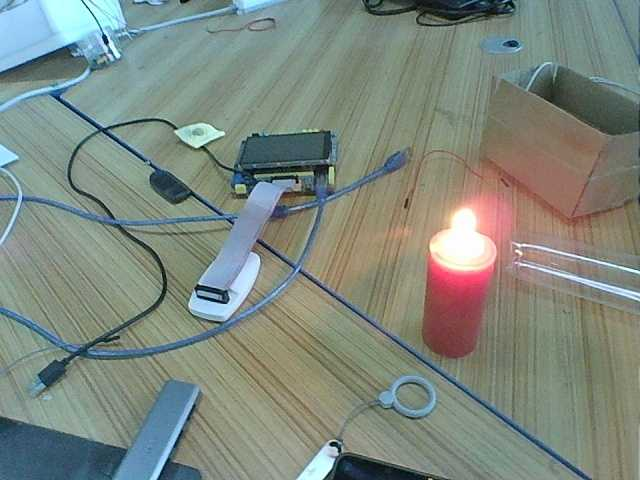candle: (419, 256, 498, 364)
fire: (431, 208, 493, 254)
